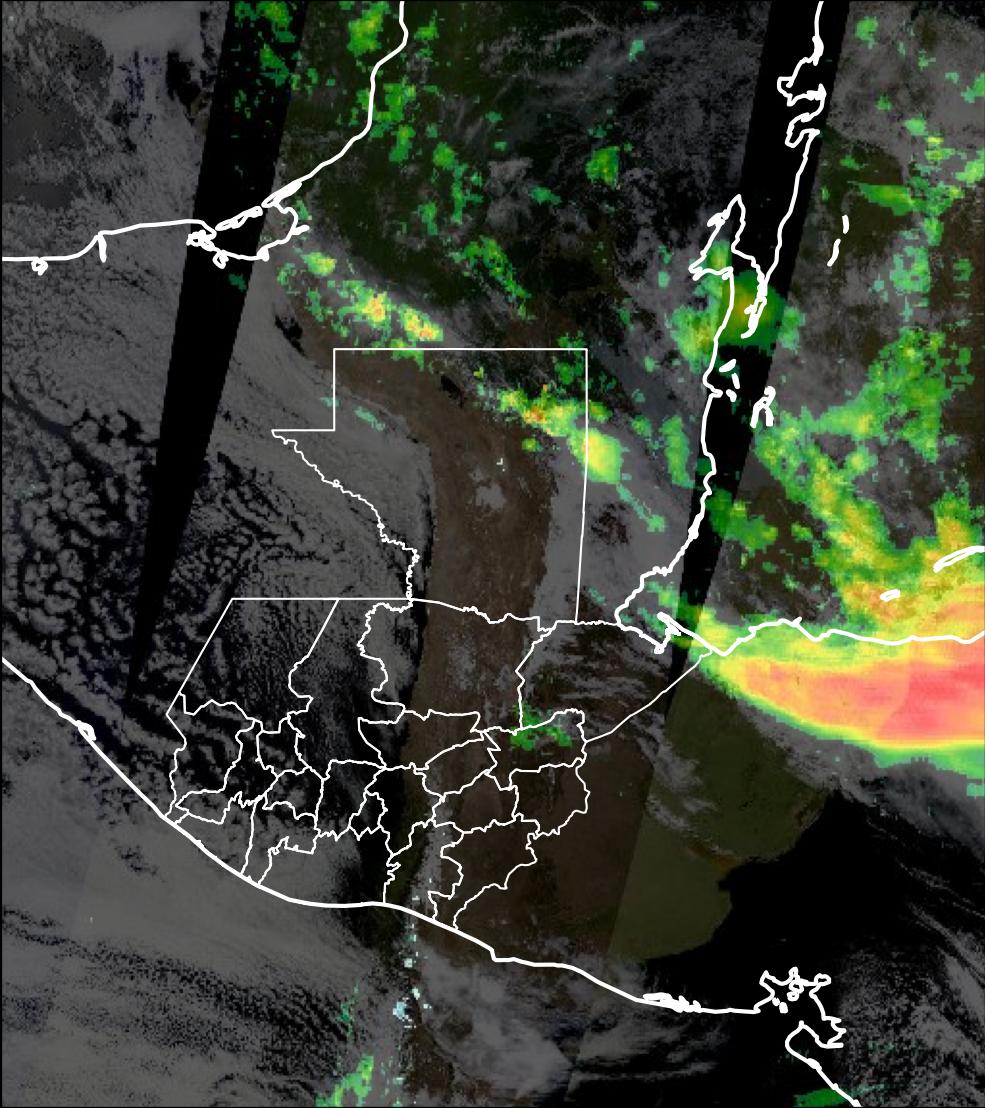precipitacion: (737, 647, 985, 779)
